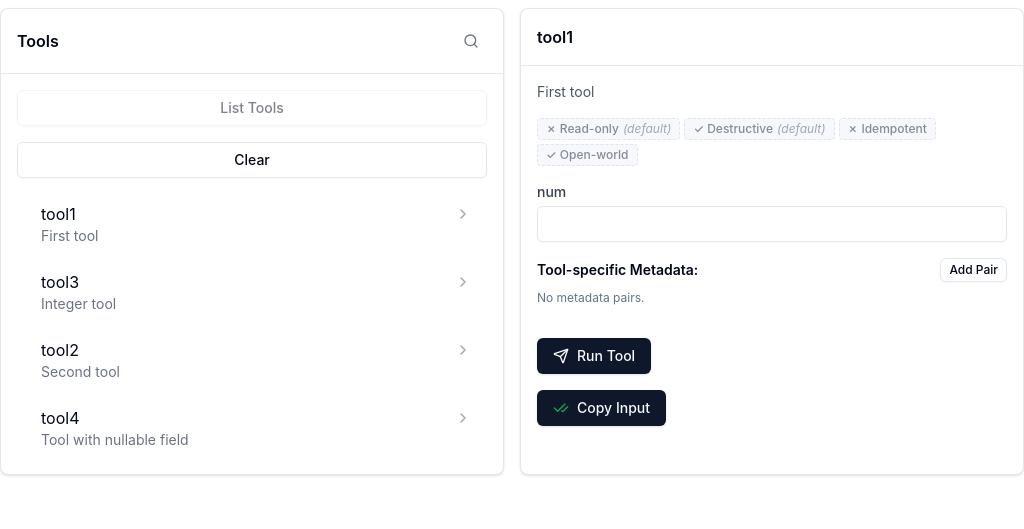
ToolsTab › Reserved metadata keys › should block execution when invalid name segment is provided
Click the button "Add Pair".
click(974, 270)  # box top-left (940, 258), bottom-right (1007, 282)
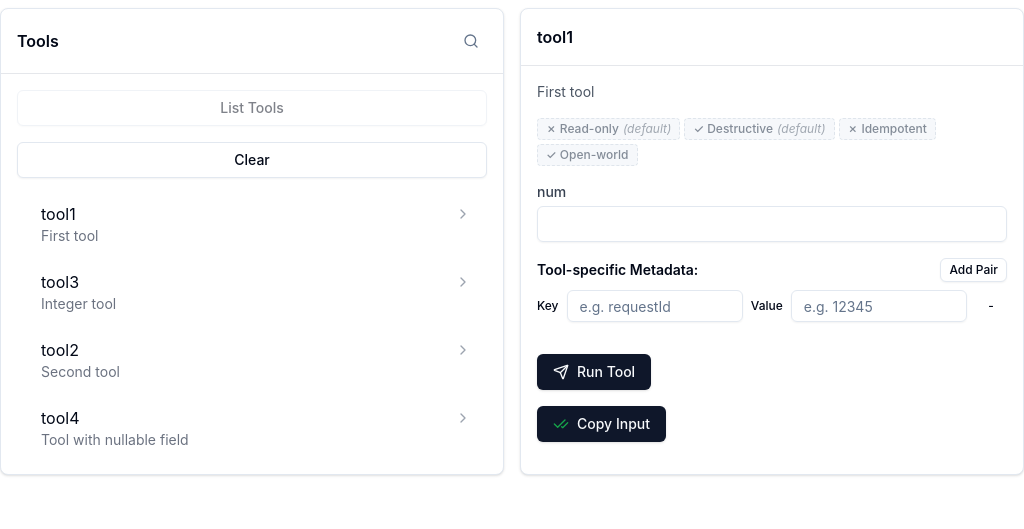
Type "custom/bad-" into the field with placeholder "e.g. requestId".
click(655, 306); type("custom/bad-")  # box top-left (566, 290), bottom-right (743, 322)
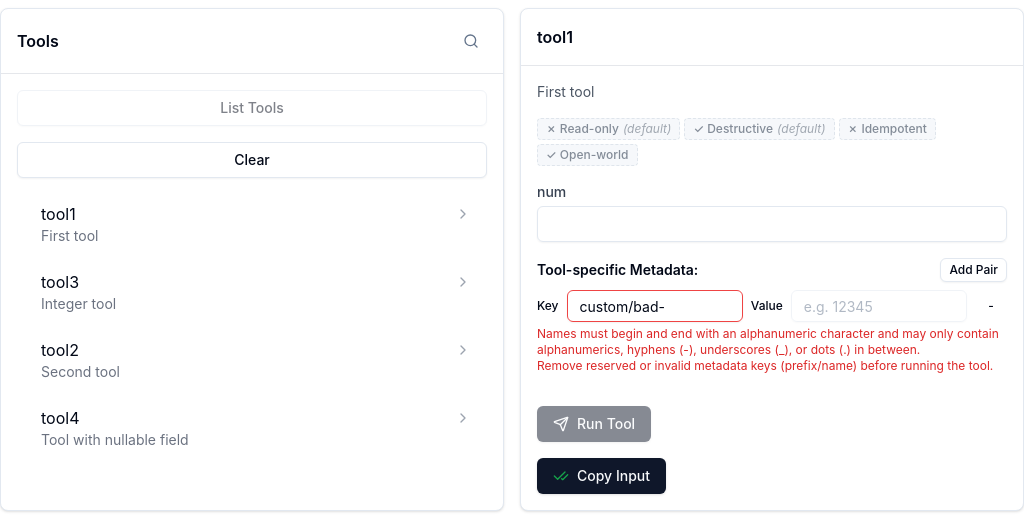
Now the button "Run Tool" is disabled, box top-left (537, 406), bottom-right (651, 442)
Now the text "Names must begin and end with an alphanumeric character and may only contain alphanumerics, hyphens (-), underscores (_)" is shown, box top-left (537, 326), bottom-right (999, 357)
